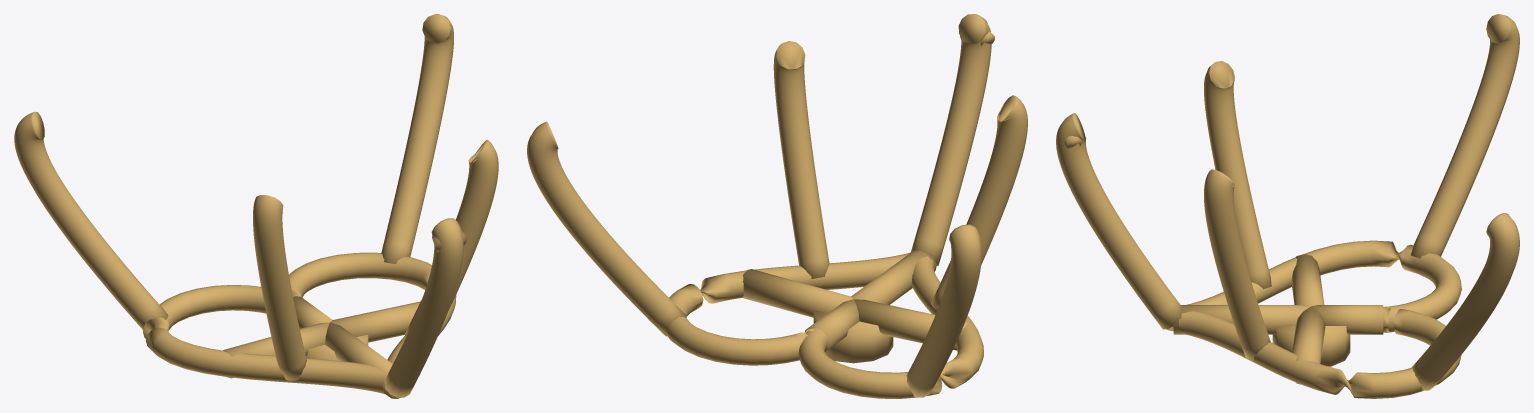
The model's file is stuller-lg-603314-4-prong.glb.
3 renders of one model, left to right at view 1: azimuth 30°, elevation 25°; view 2: azimuth 150°, elevation 25°; view 3: azimuth 270°, elevation 25°, orthographic. The views are drawn at different scales.
Parts seen in each view (by area): view 1: Metal.307, Metal.312, Metal.313, Metal.314, Metal.316, Metal.315, Metal.308, Metal.311, Metal.310, Metal.309, Metal.306; view 2: Metal.307, Metal.316, Metal.312, Metal.315, Metal.313, Metal.314, Metal.308, Metal.310, Metal.306, Metal.311, Metal.309; view 3: Metal.307, Metal.313, Metal.316, Metal.312, Metal.314, Metal.315, Metal.309, Metal.311, Metal.306, Metal.308, Metal.310.
Part boxes in pixels (<box>): Metal.307: <box>143,252,456,397</box>; Metal.312: <box>381,14,453,263</box>; Metal.313: <box>14,111,168,329</box>; Metal.314: <box>253,195,306,380</box>; Metal.316: <box>385,218,463,397</box>; Metal.315: <box>405,139,498,334</box>; Metal.308: <box>330,301,420,342</box>; Metal.311: <box>325,322,399,398</box>; Metal.310: <box>223,322,329,378</box>; Metal.309: <box>293,296,332,327</box>; Metal.306: <box>299,326,368,360</box>; Metal.307: <box>666,252,983,398</box>; Metal.316: <box>911,14,991,265</box>; Metal.312: <box>527,121,686,336</box>; Metal.315: <box>773,41,829,278</box>; Metal.313: <box>906,224,981,397</box>; Metal.314: <box>931,95,1027,308</box>; Metal.308: <box>743,269,852,317</box>; Metal.310: <box>853,299,970,350</box>; Metal.306: <box>813,303,893,363</box>; Metal.311: <box>851,250,936,304</box>; Metal.309: <box>805,299,859,351</box>; Metal.307: <box>1167,240,1461,398</box>; Metal.313: <box>1410,14,1519,258</box>; Metal.316: <box>1056,113,1181,329</box>; Metal.312: <box>1412,213,1519,390</box>; Metal.314: <box>1204,61,1271,289</box>; Metal.315: <box>1204,169,1270,360</box>; Metal.309: <box>1312,305,1383,334</box>; Metal.311: <box>1173,305,1310,334</box>; Metal.306: <box>1272,326,1350,366</box>; Metal.308: <box>1292,306,1325,384</box>; Metal.310: <box>1291,254,1324,306</box>.
Size of the model in its own units: 7.85 by 4.05 by 7.16.
